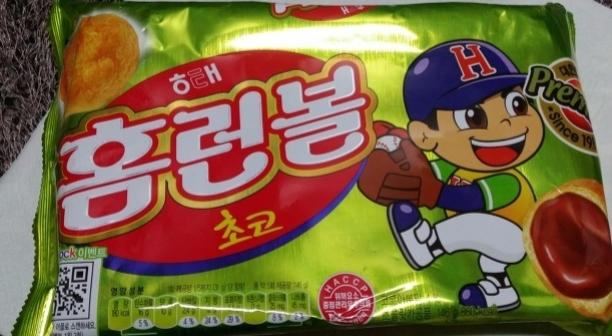snack: (11, 0, 612, 336)
